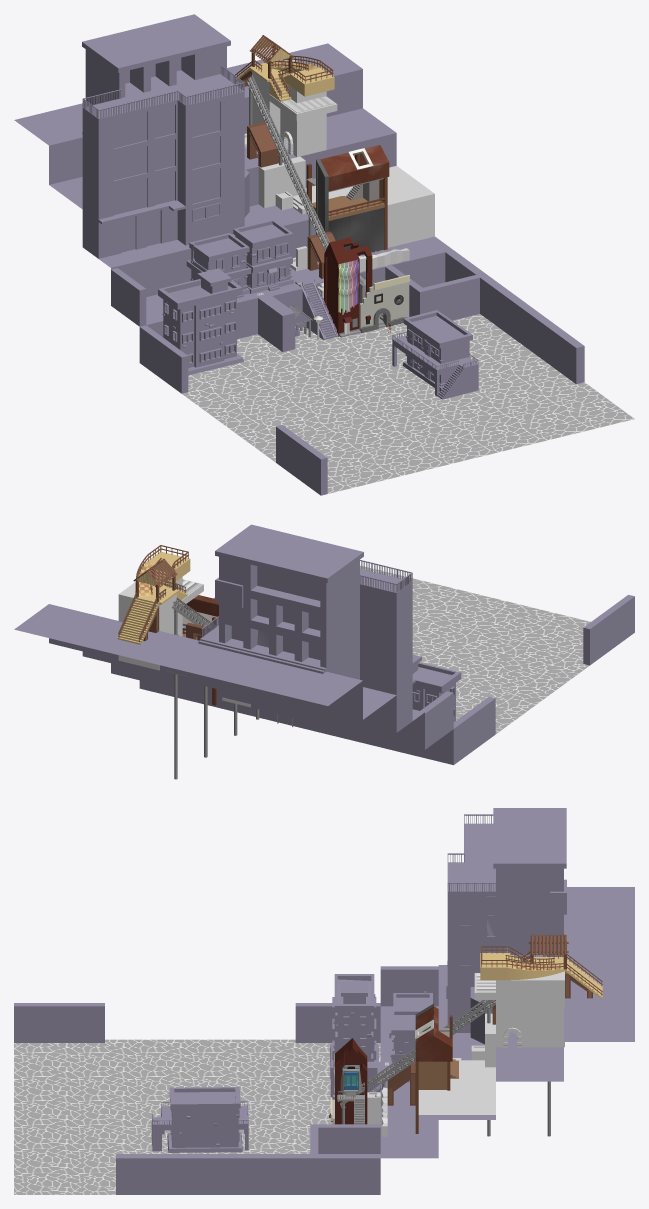
Rendered from Ibagu_Road_FBX.fbx.
The picture shows the model from 3 angles, top to bottom: view 1: azimuth 30°, elevation 25°; view 2: azimuth 150°, elevation 25°; view 3: azimuth 270°, elevation 25°; orthographic projection.
Parts seen in each view (by area): view 1: Object040, DummyBuilding(CAFE), Terrain_Main, DummyBuilding (×4), Terrain_Wall, Station_Middle, Box577, TR_L-shape, Station_Goal, Rail, Box618, TR_3F_Wall (+10 smaller); view 2: DummyBuilding(CAFE), Terrain_Main, Object040, Terrain_Wall, Station_Goal, DummyBuilding, Rail, Box619, Object038, Object039, Station_Middle; view 3: Object040, Terrain_Wall, DummyBuilding(CAFE), Terrain_Main, DummyBuilding (×4), Station_Middle, Box577, Box619, Station_Goal, Rail, Station_Start, Box618 (+5 smaller).
Boxes of the visible parts, <box> form: Object040: <box>182,314,634,493</box>; DummyBuilding(CAFE): <box>82,14,249,258</box>; Terrain_Main: <box>14,43,453,339</box>; DummyBuilding (×4): <box>158,219,478,399</box>; Terrain_Wall: <box>111,250,584,495</box>; Station_Middle: <box>306,145,389,255</box>; Box577: <box>295,166,434,247</box>; TR_L-shape: <box>258,287,302,351</box>; Station_Goal: <box>236,61,334,101</box>; Rail: <box>246,75,329,251</box>; Box618: <box>280,96,326,157</box>; TR_3F_Wall: <box>258,156,305,208</box>; DummyBuilding(CAFE): <box>198,524,415,732</box>; Terrain_Main: <box>14,604,453,764</box>; Object040: <box>360,565,590,733</box>; Terrain_Wall: <box>139,595,634,765</box>; Station_Goal: <box>117,551,190,644</box>; DummyBuilding: <box>412,654,461,721</box>; Rail: <box>171,597,259,779</box>; Box619: <box>118,582,176,670</box>; Object038: <box>118,545,188,642</box>; Object039: <box>133,558,177,602</box>; Station_Middle: <box>182,595,218,705</box>; Object040: <box>14,1039,380,1194</box>; Terrain_Wall: <box>14,966,438,1194</box>; DummyBuilding(CAFE): <box>446,808,570,1044</box>; Terrain_Main: <box>380,887,634,1158</box>; DummyBuilding (×4): <box>151,974,432,1152</box>; Station_Middle: <box>415,1003,458,1133</box>; Box577: <box>418,1061,495,1114</box>; Box619: <box>529,971,564,1047</box>; Station_Goal: <box>480,953,602,998</box>; Rail: <box>338,954,550,1136</box>; Station_Start: <box>335,1039,367,1124</box>; Box618: <box>496,992,529,1047</box>.
Size of the model in its own units: 5472 by 4115 by 9261.
